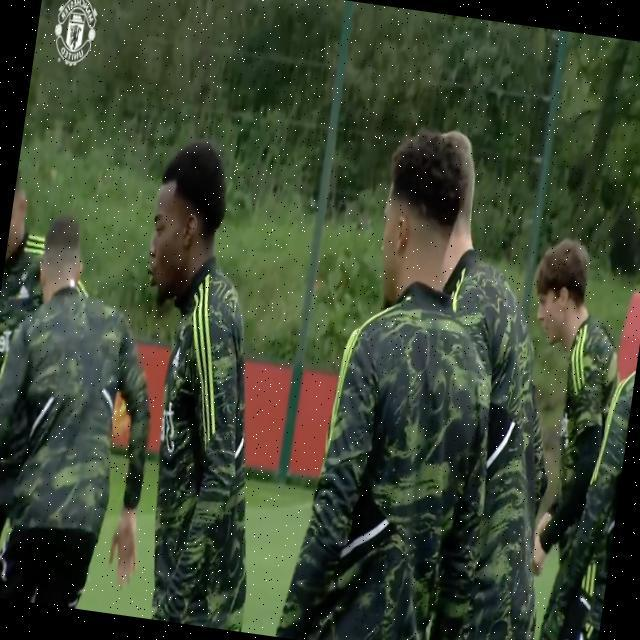Adidas: (16, 281, 31, 302)
